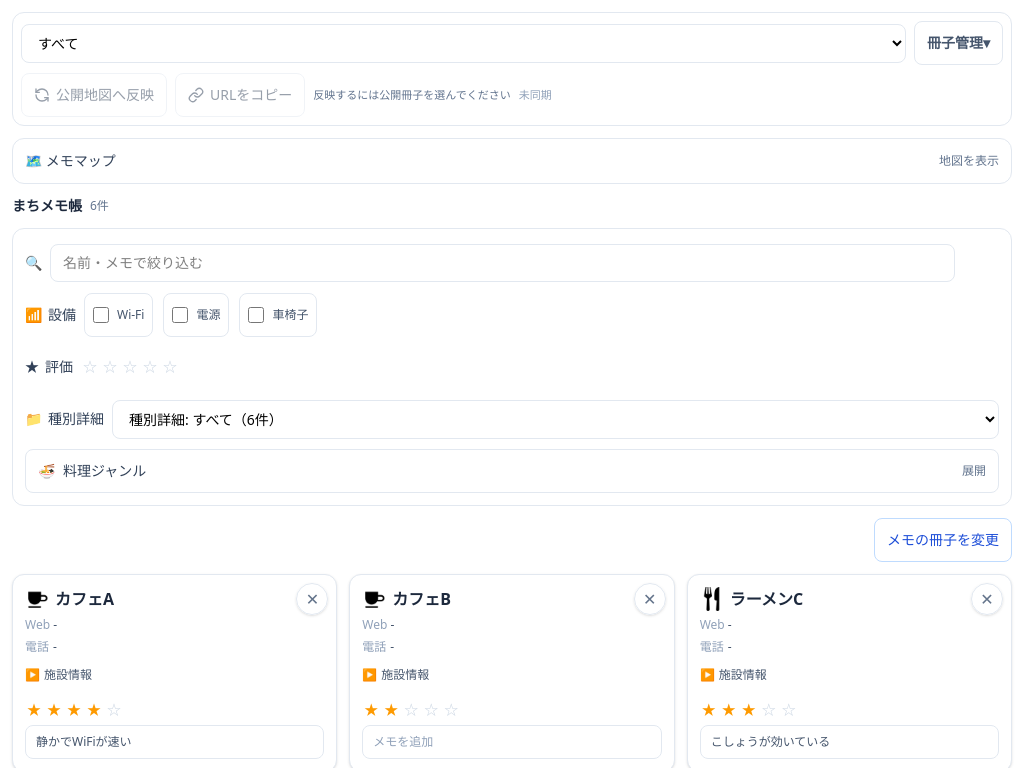
Test: MemochoSection: フィルタバー › ★評価: 星3を押すと星1〜3が灯り「★3以上」で絞り込み、同じ星3をもう一度押すと解除される
This screenshot has width=1024, height=768.
Note: ★3 を押す → 星1〜3が★（amber）・星4〜5が☆、aria-pressed は星3だけ
Click the button named "★3以上で絞り込む" at (130, 367), box x1=121 y1=358 x2=139 y2=376
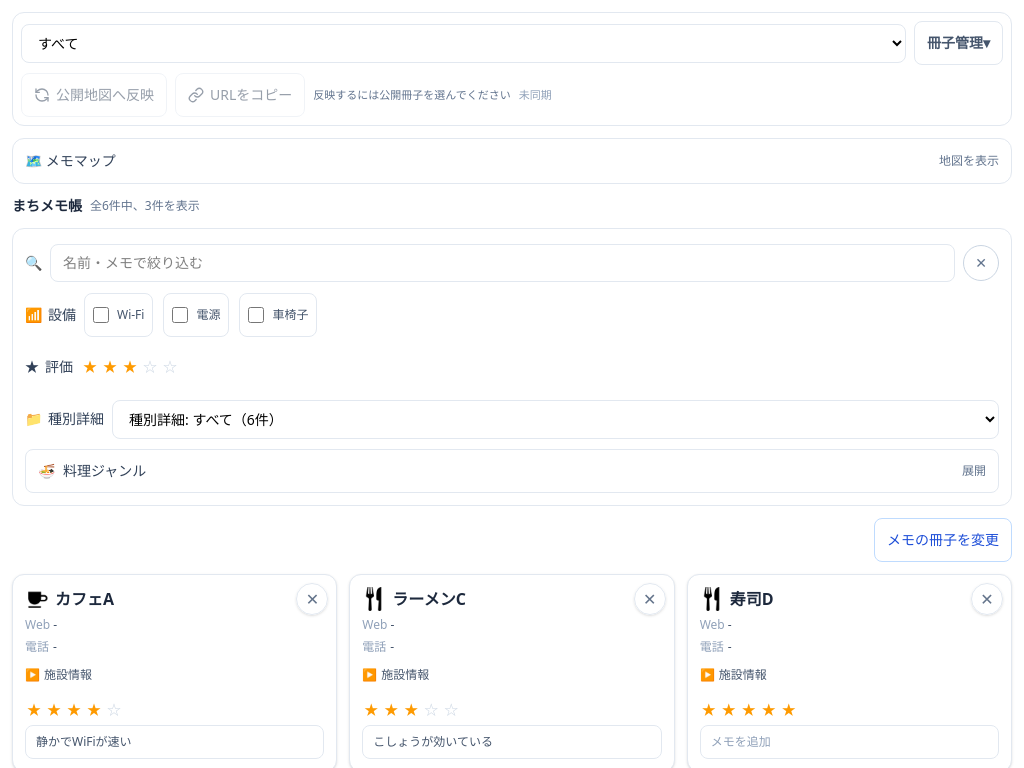
expect the button named "★1以上で絞り込む" reads "★": met, box x1=81 y1=358 x2=99 y2=376
expect the button named "★2以上で絞り込む" reads "★": met, box x1=101 y1=358 x2=119 y2=376
expect the button named "★3以上で絞り込む" reads "★": met
Note: 同じ星（★3）をもう一度押す → 解除して「すべて」に戻る
Click the button named "★3以上で絞り込む" at (130, 367), box x1=121 y1=358 x2=139 y2=376
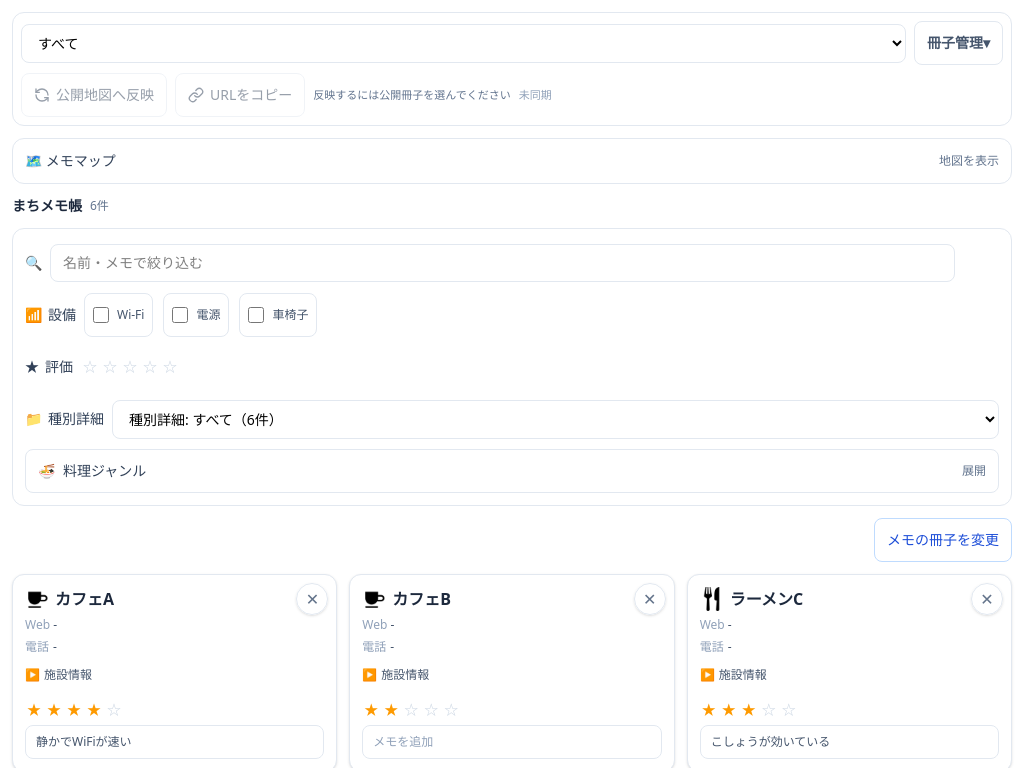
expect the button named "★1以上で絞り込む" reads "☆": met, box x1=81 y1=358 x2=99 y2=376
expect the button named "★2以上で絞り込む" reads "☆": met, box x1=101 y1=358 x2=119 y2=376
expect the button named "★3以上で絞り込む" reads "☆": met, box x1=121 y1=358 x2=139 y2=376
